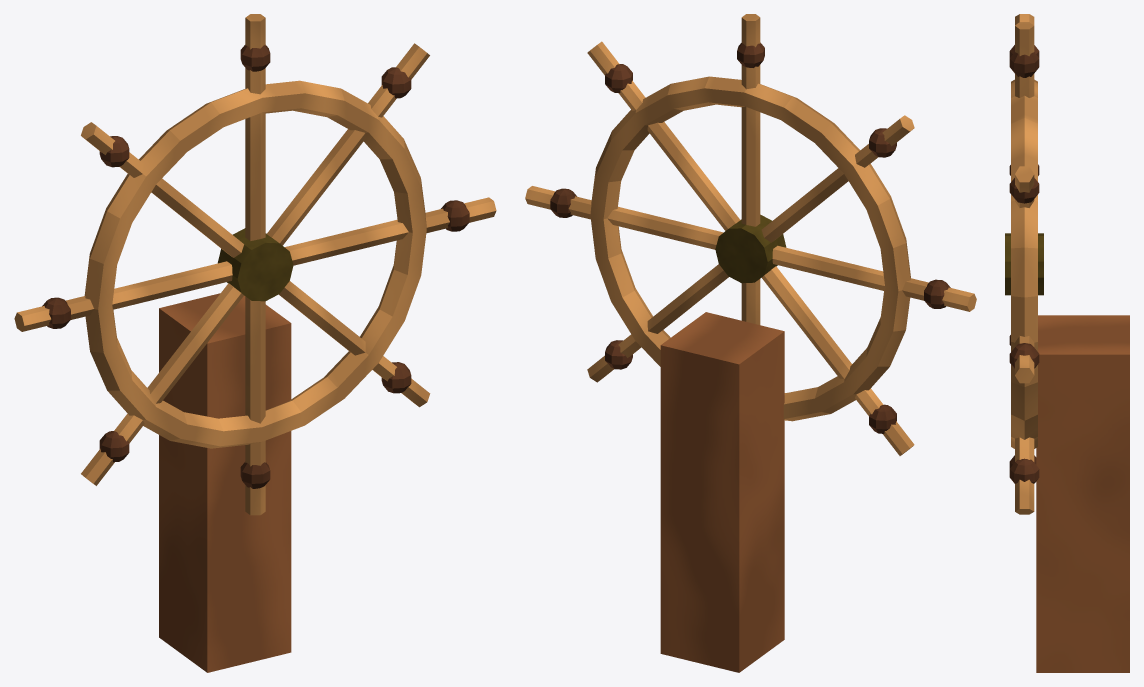
File: upgrade_ship_s_wheel_ash_rudder.glb
3 renders of one model, left to right at view 1: azimuth 30°, elevation 25°; view 2: azimuth 150°, elevation 25°; view 3: azimuth 270°, elevation 25°, orthographic. The views are drawn at different scales.
Parts seen in each view (by area): view 1: upgrade_ship_s_wheel_ash_rudder_mesh; view 2: upgrade_ship_s_wheel_ash_rudder_mesh; view 3: upgrade_ship_s_wheel_ash_rudder_mesh.
Boxes of the visible parts, box(x1,y1,x2,y2) form: upgrade_ship_s_wheel_ash_rudder_mesh: box(14, 14, 496, 672); upgrade_ship_s_wheel_ash_rudder_mesh: box(525, 14, 976, 672); upgrade_ship_s_wheel_ash_rudder_mesh: box(1005, 14, 1129, 672).
Bounding box in the file's own units: 1.35 × 1.78 × 0.32.
1 material, 1 textured.
